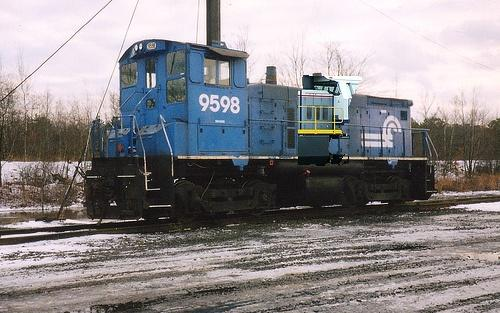tampered: (299, 76, 362, 166)
